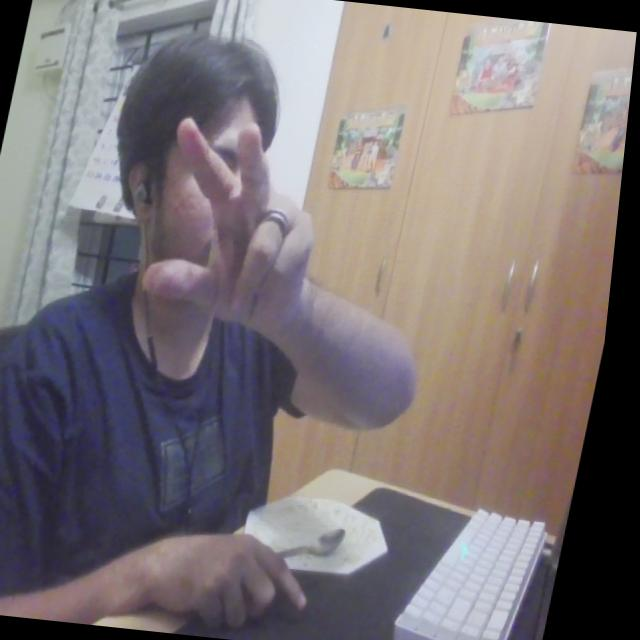no: (133, 113, 346, 368)
